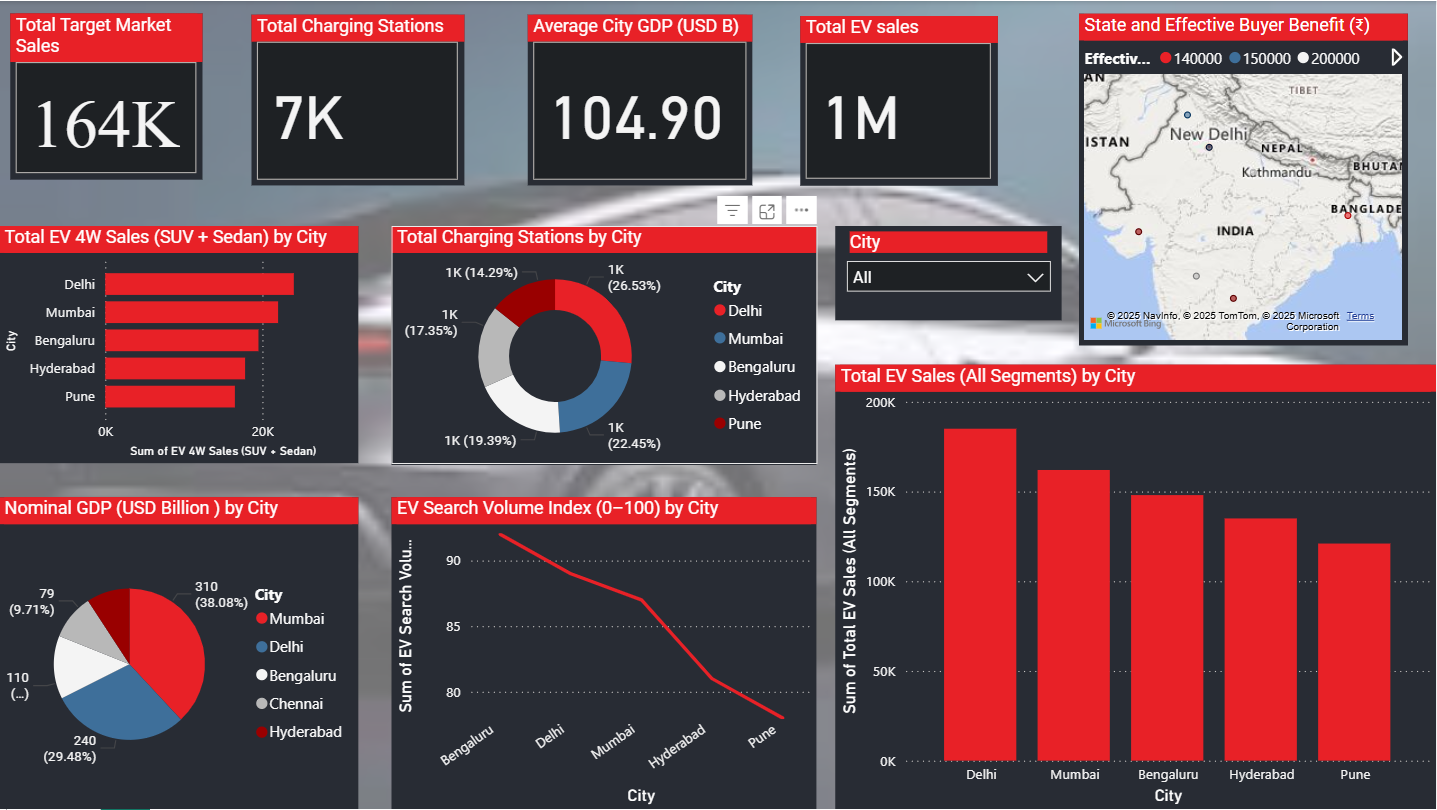

What the dashboard file says about the page in this screenshot:
{"tool":"powerbi","page":{"name":"Page 1","canvas":[1280,720],"ordinal":0},"visuals":[{"type":"barChart","title":"Total EV 4W Sales (SUV + Sedan) by City","fields":{"Category":["Tesla_City_EV_Sales_SUV_Sedan.City"],"Y":["Sum(Tesla_City_EV_Sales_SUV_Sedan.EV 4W Sales (SUV + Sedan))"]},"box":[0,200.3,319.7,211.3],"z":0},{"type":"donutChart","title":"Total Charging Stations by City","fields":{"Category":["Tesla_City_Charging_Infra.City"],"Y":["Sum(Tesla_City_Charging_Infra.Total Charging Stations)"]},"box":[349.9,200.3,378.7,212.7],"z":1000},{"type":"pieChart","title":"Nominal GDP (USD Billion ) by City","fields":{"Category":["Tesla_City_GDP_Affluence.City"],"Y":["Sum(Tesla_City_GDP_Affluence.Nominal GDP (USD Billion ))"]},"box":[0,441.9,319.7,278.6],"z":2000},{"type":"map","fields":{"Category":["Tesla_State_EV_Policy.State"],"Series":["Tesla_State_EV_Policy.Effective Buyer Benefit (₹)"]},"box":[961.6,11.6,293,295.3],"z":3000},{"type":"lineChart","title":"EV Search Volume Index (0–100) by City","fields":{"Category":["Tesla_City_Search_Trends.City"],"Y":["Sum(Tesla_City_Search_Trends.EV Search Volume Index (0–100))"]},"box":[349.9,441.9,378.7,278.6],"z":4000},{"type":"columnChart","title":"Total EV Sales (All Segments) by City","fields":{"Category":["Tesla_City_EV_Sales_SUV_Sedan.City"],"Y":["Sum(Tesla_City_EV_Sales_SUV_Sedan.Total EV Sales (All Segments))"]},"box":[745.1,323.8,535.2,396.6],"z":5000},{"type":"cardVisual","title":"Total Target Market Sales","fields":{"Data":["Sum(Tesla_City_EV_Sales_SUV_Sedan.EV 4W Sales (SUV + Sedan))"]},"box":[9.6,11,171.5,148.2],"z":6000},{"type":"cardVisual","title":"Total Charging Stations","fields":{"Data":["Sum(Tesla_City_Charging_Infra.Total Charging Stations)"]},"box":[225,12.3,189.4,152.3],"z":7000},{"type":"cardVisual","title":"Average City GDP (USD B)","fields":{"Data":["Avg(Tesla_City_GDP_Affluence.Nominal GDP (USD Billion ))"]},"box":[470.7,12.3,200.3,152.3],"z":8000},{"type":"slicer","fields":{"Values":["Tesla_City_EV_Sales_SUV_Sedan.City"]},"box":[745.1,200.3,201.7,83.7],"z":9000},{"type":"cardVisual","title":"Total EV sales","fields":{"Data":["Sum(Tesla_City_EV_Sales_SUV_Sedan.Total EV Sales (All Segments))"]},"box":[713.6,13.7,175.6,150.9],"z":9001}]}

Visuals, with their boxes in screenshot pixels (x1, y1, x2, y2), scaled from the page's 1280x720 canvas onto the 1437x810 screenshot:
"Total EV 4W Sales (SUV + Sedan) by City" barChart: x1=0 y1=225 x2=359 y2=463
"Total Charging Stations by City" donutChart: x1=393 y1=225 x2=818 y2=465
"Nominal GDP (USD Billion ) by City" pieChart: x1=0 y1=497 x2=359 y2=809
map - Tesla_State_EV_Policy.State x Tesla_State_EV_Policy.Effective Buyer Benefit (₹): x1=1080 y1=13 x2=1408 y2=345
"EV Search Volume Index (0–100) by City" lineChart: x1=393 y1=497 x2=818 y2=809
"Total EV Sales (All Segments) by City" columnChart: x1=836 y1=364 x2=1436 y2=809
"Total Target Market Sales" cardVisual: x1=11 y1=12 x2=203 y2=179
"Total Charging Stations" cardVisual: x1=253 y1=14 x2=465 y2=185
"Average City GDP (USD B)" cardVisual: x1=528 y1=14 x2=753 y2=185
slicer - Tesla_City_EV_Sales_SUV_Sedan.City: x1=836 y1=225 x2=1063 y2=320
"Total EV sales" cardVisual: x1=801 y1=15 x2=998 y2=185
